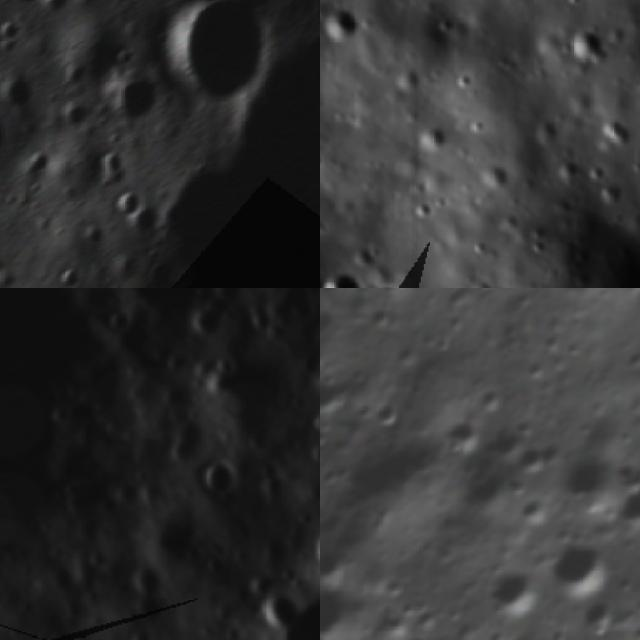crater: (139, 38, 320, 288), (155, 0, 284, 122), (214, 495, 320, 640), (132, 492, 223, 580), (548, 446, 627, 530), (152, 407, 227, 482), (541, 534, 615, 608), (245, 577, 316, 640), (98, 71, 159, 137), (176, 292, 240, 354), (477, 564, 539, 624), (503, 432, 563, 494), (191, 450, 251, 510), (430, 414, 490, 474), (362, 389, 413, 440), (94, 300, 144, 348), (612, 467, 640, 548), (564, 20, 608, 70), (0, 72, 43, 116), (320, 0, 359, 42), (95, 152, 128, 196), (36, 616, 87, 640), (110, 186, 141, 225), (295, 434, 320, 482), (320, 304, 345, 347), (320, 265, 361, 288), (306, 400, 320, 444), (53, 267, 82, 288), (0, 108, 11, 163), (6, 0, 47, 13)
